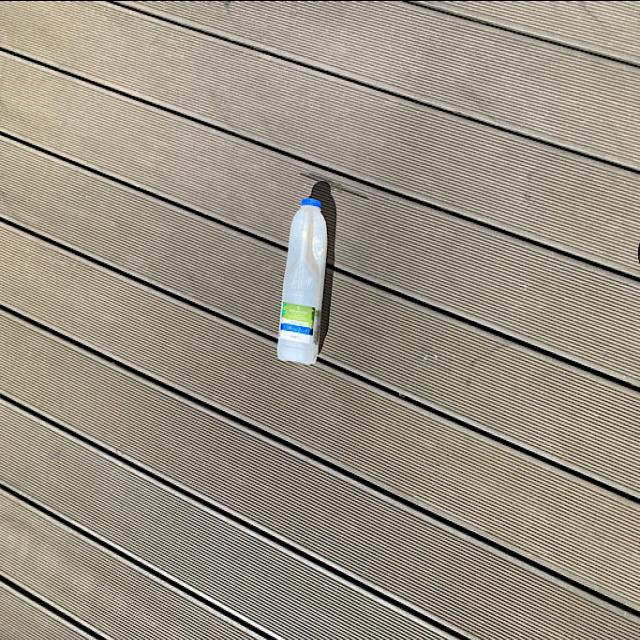HDPEM: (276, 190, 334, 370)
